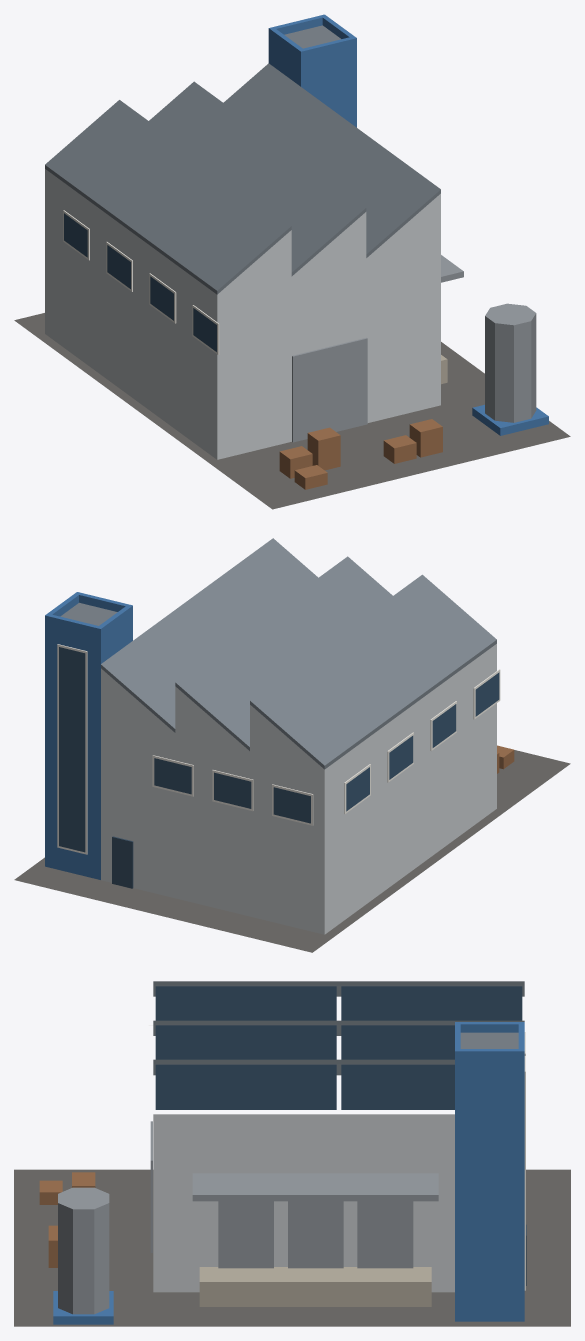
3 renders of one model, top to bottom at view 1: azimuth 30°, elevation 25°; view 2: azimuth 150°, elevation 25°; view 3: azimuth 270°, elevation 25°, orthographic. The views are drawn at different scales.
Visible parts, largest first — view 1: hall, roof (×4), yard, garage_door, storage_tank, roof_end (×3), pallets (×5), stair_tower, window_glass (×4), tank_base, parapet; view 2: hall, roof (×4), window_glass (×8), yard, stair_tower, roof_end (×3), parapet (×2), window_frame, door; view 3: window_band (×6), hall, yard, stair_tower, garage_door (×3), dock, roof (×4), canopy, storage_tank, parapet (×2), tank_base, pallets (+1 smaller).
Boxes of the visible parts, <box> form: hall: <box>45,169,440,459</box>; roof (×4): <box>45,25,440,294</box>; yard: <box>14,313,570,509</box>; garage_door: <box>292,337,367,442</box>; storage_tank: <box>485,303,536,422</box>; roof_end (×3): <box>218,193,440,294</box>; pallets (×5): <box>279,419,442,489</box>; stair_tower: <box>268,36,356,127</box>; window_glass (×4): <box>64,213,216,351</box>; tank_base: <box>472,404,548,435</box>; parapet: <box>298,36,356,59</box>; hall: <box>101,644,496,934</box>; roof (×4): <box>60,538,496,769</box>; window_glass (×8): <box>59,647,499,852</box>; yard: <box>14,750,570,952</box>; stair_tower: <box>45,613,132,879</box>; roof_end (×3): <box>101,668,324,769</box>; parapet (×2): <box>45,592,132,636</box>; window_frame: <box>57,644,87,854</box>; door: <box>112,836,133,888</box>; window_band (×6): <box>155,986,522,1109</box>; hall: <box>153,1114,454,1292</box>; yard: <box>14,1169,570,1326</box>; stair_tower: <box>455,1059,524,1321</box>; garage_door (×3): <box>218,1201,413,1268</box>; dock: <box>199,1267,431,1306</box>; roof (×4): <box>153,981,524,1075</box>; canopy: <box>192,1173,438,1201</box>; storage_tank: <box>58,1187,109,1314</box>; parapet (×2): <box>460,1022,518,1059</box>; tank_base: <box>53,1291,113,1324</box>; pallets: <box>39,1180,62,1204</box>.
Size of the model in its own units: 16 by 12.9 by 24.
